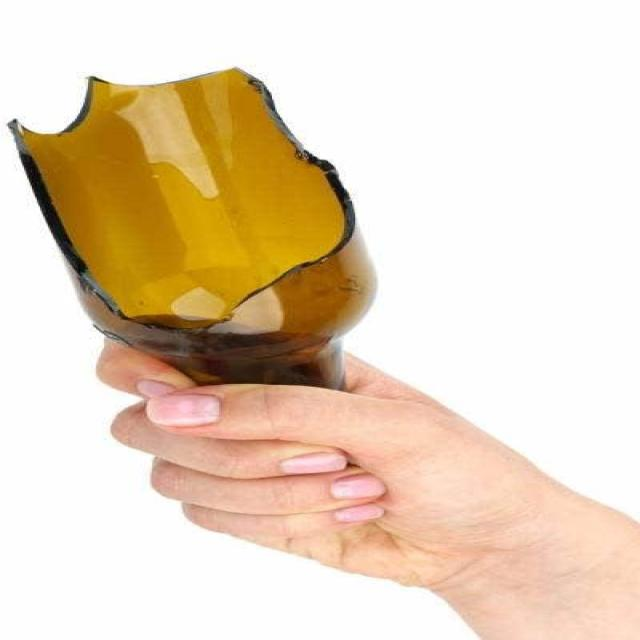Dry Waste: (2, 61, 380, 382)
